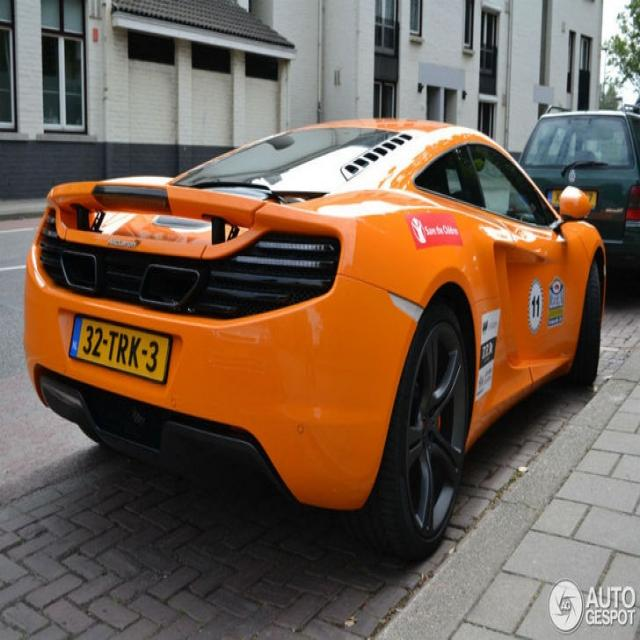number_plate: (67, 304, 175, 382)
